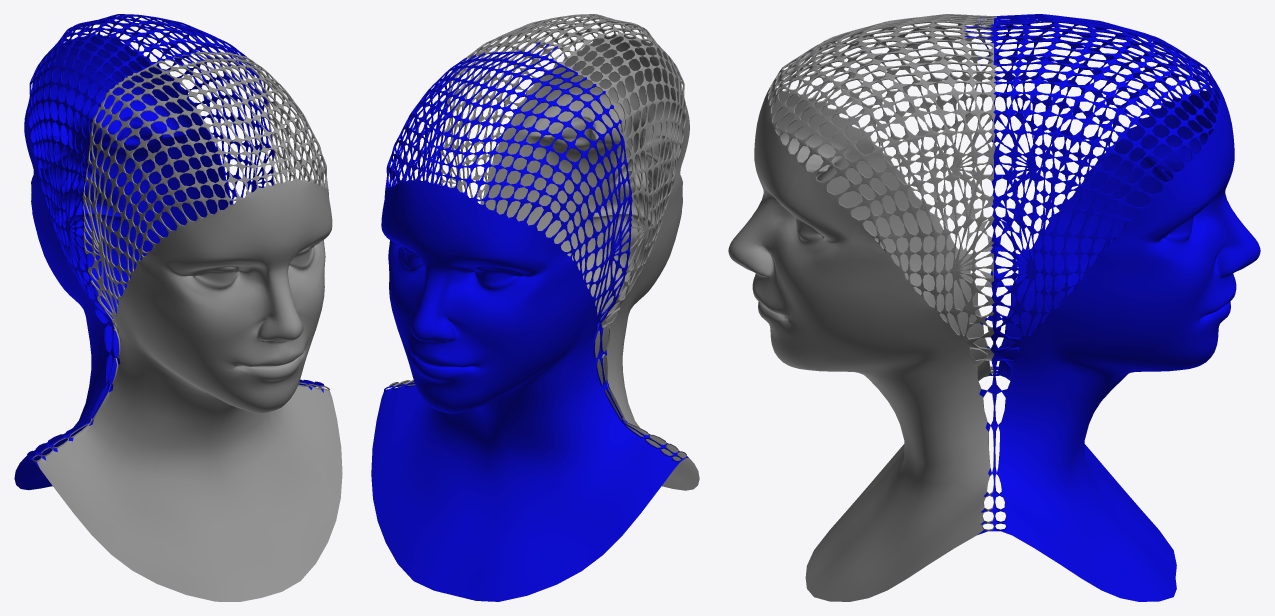
The model's file is Janus_UV_smooth.fbx.
3 views of the same model, side by side, from view 1: azimuth 30°, elevation 25°; view 2: azimuth 150°, elevation 25°; view 3: azimuth 270°, elevation 25° (orthographic). The views are drawn at different scales.
Parts seen in each view (by area): view 1: Janus_Smooth_UV; view 2: Janus_Smooth_UV; view 3: Janus_Smooth_UV.
Part boxes in pixels (x1,y1,x2,y2): Janus_Smooth_UV: (14, 14, 342, 601); Janus_Smooth_UV: (371, 14, 699, 601); Janus_Smooth_UV: (728, 14, 1260, 601).
Bounding box in the file's own units: 11.44 × 17.94 × 15.77.
